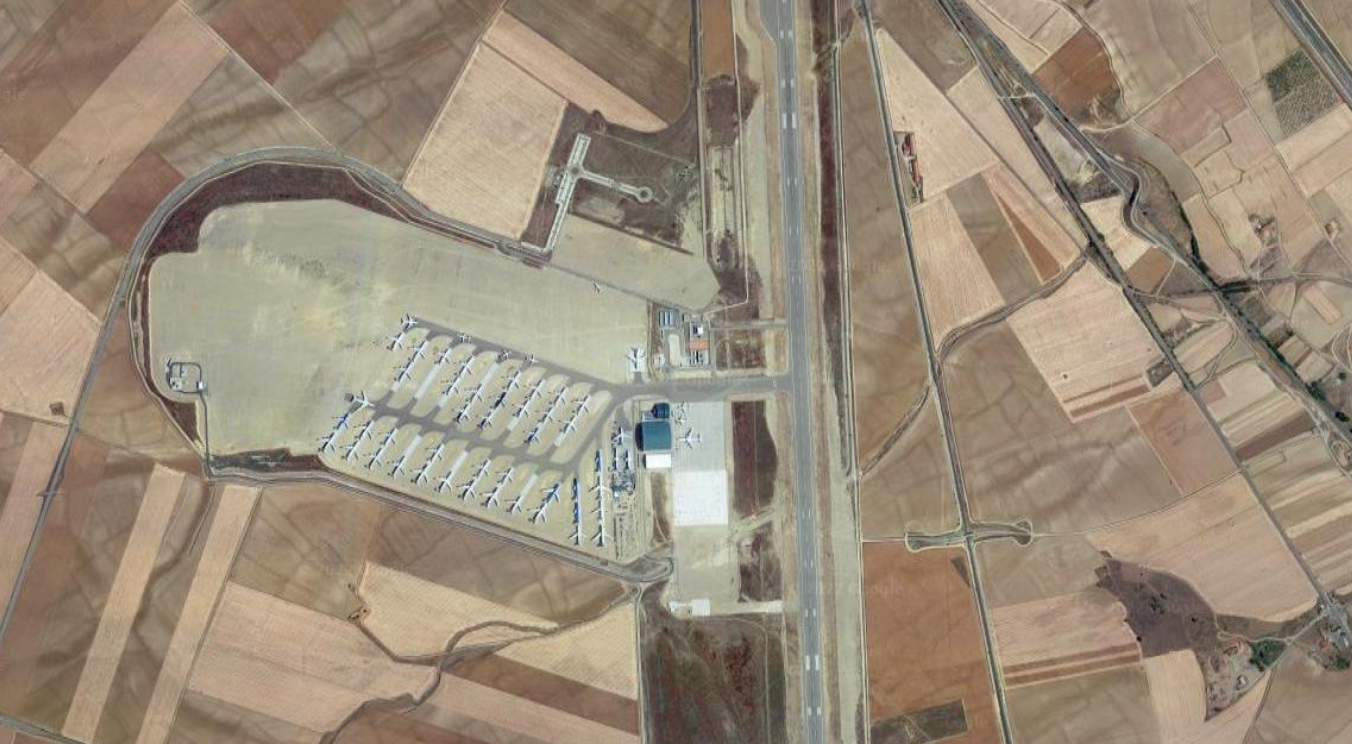plane: (350, 389, 375, 413), (677, 427, 704, 449), (626, 347, 650, 371), (590, 475, 613, 498), (407, 340, 430, 363), (591, 524, 615, 546), (364, 447, 385, 471), (591, 499, 613, 521), (527, 502, 548, 525), (392, 363, 416, 383), (387, 455, 407, 479), (318, 431, 338, 454), (433, 471, 453, 494), (451, 403, 472, 424), (339, 440, 360, 461), (426, 442, 447, 463), (410, 463, 430, 485), (482, 486, 501, 508), (572, 393, 591, 415), (503, 370, 522, 392), (355, 419, 374, 441), (465, 383, 485, 403), (458, 480, 477, 501), (549, 386, 568, 407), (526, 379, 545, 400), (570, 525, 589, 546), (543, 483, 561, 505), (559, 415, 578, 435), (441, 376, 460, 396), (332, 412, 351, 432), (612, 427, 633, 445), (523, 426, 542, 445), (472, 458, 490, 478), (537, 408, 557, 426), (491, 391, 508, 412), (456, 355, 473, 376), (400, 313, 419, 331), (512, 398, 530, 417), (379, 428, 398, 446), (388, 332, 405, 351), (506, 496, 523, 515), (478, 412, 495, 430), (435, 348, 452, 366), (499, 467, 515, 485), (457, 333, 472, 344), (526, 353, 538, 366)
